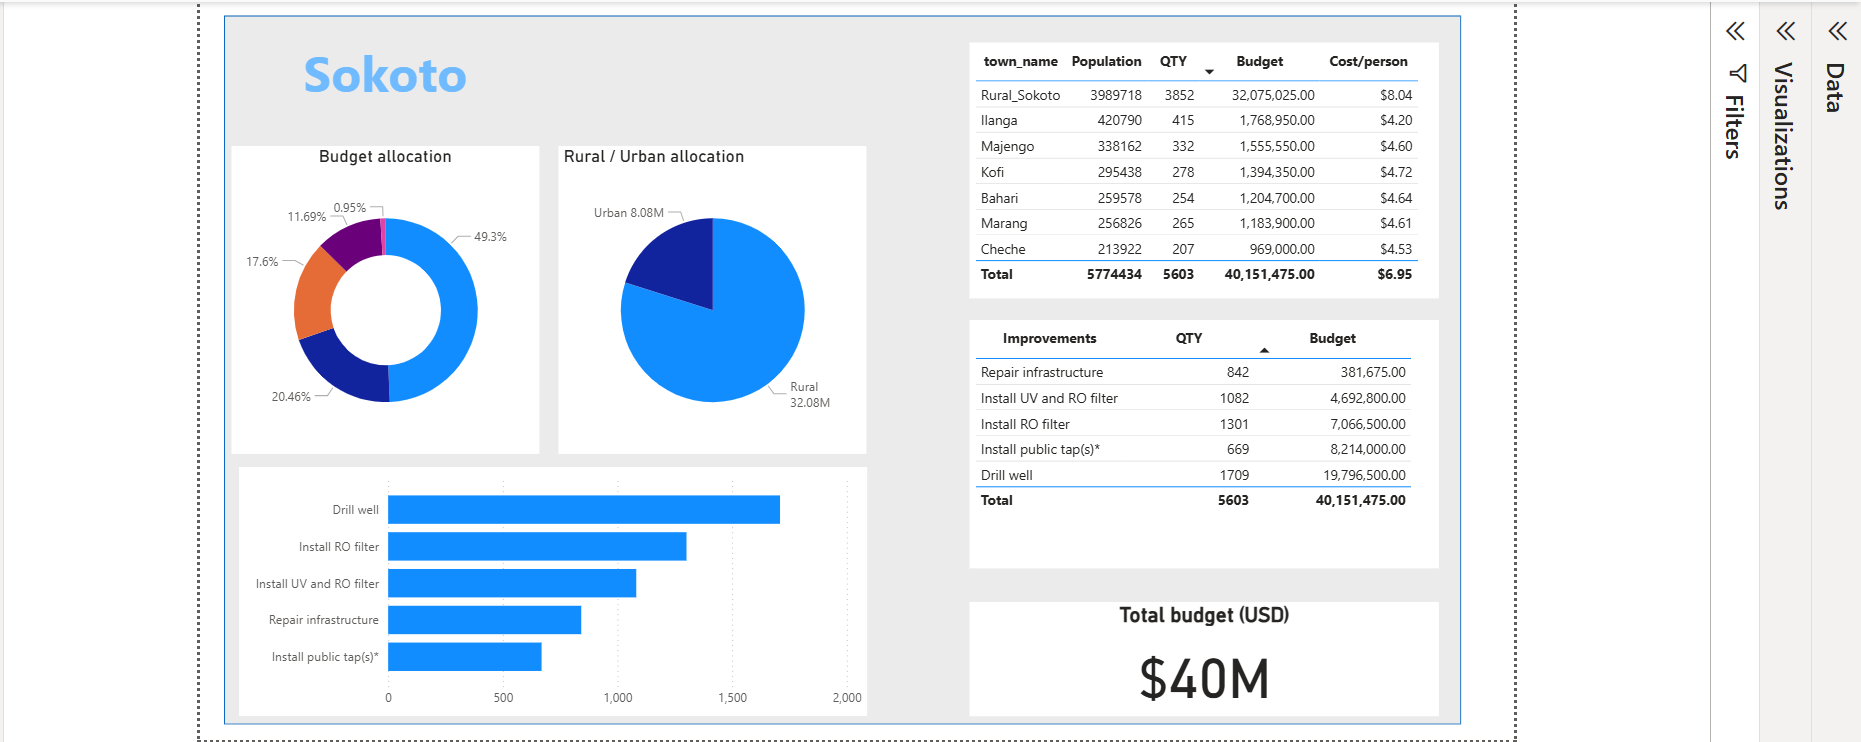

The dashboard page shown, as its layout file describes it:
{"tool":"powerbi","page":{"name":"Sokoto","canvas":[1280,720],"ordinal":0},"visuals":[{"type":"shape","box":[22.7,13.6,1205.5,690.9],"z":0},{"type":"barChart","fields":{"Category":["project_progress.Aggregated_improvements"],"Y":["CountNonNull(project_progress.Aggregated_improvements)"]},"box":[38.2,453.6,611.8,242.7],"z":1000},{"type":"card","title":"Total budget (USD)","fields":{"Values":["project_progress.Total_cost_of_improvements"]},"box":[750.2,583.9,457.3,111.5],"z":2000},{"type":"tableEx","fields":{"Values":["project_progress.Aggregated_improvements","CountNonNull(project_progress.Aggregated_improvements)","Sum(project_progress.Budgeted_improvement_cost)"]},"box":[750.2,309.9,457.3,241.9],"z":3000},{"type":"tableEx","fields":{"Values":["location.town_name","water_source.number_of_people_served","project_progress.Aggregated_improvements","Sum(project_progress.Budgeted_improvement_cost)","select"]},"box":[750.2,39.7,457.3,249.5],"z":4000},{"type":"pieChart","title":"Rural / Urban allocation","fields":{"Category":["location.location_type"],"Y":["Sum(project_progress.Budgeted_improvement_cost)"]},"box":[350,140,300,300],"z":5000},{"type":"donutChart","title":"Budget allocation","fields":{"Y":["Sum(project_progress.Budgeted_improvement_cost)"],"Category":["project_progress.Aggregated_improvements"]},"box":[30,140,300,300],"z":6000},{"type":"textbox","box":[30,30,300,79.1],"z":7000}]}

Visuals, with their boxes on the page's 1280x720 design canvas (x1, y1, x2, y2). These are canvas units, not pixel positions in the 1861x742 screenshot, which may show the page scaled, cropped or inside an application window:
shape: <box>23,14,1228,704</box>
barChart - project_progress.Aggregated_improvements x CountNonNull(project_progress.Aggregated_improvements): <box>38,454,650,696</box>
"Total budget (USD)" card: <box>750,584,1208,695</box>
tableEx - project_progress.Aggregated_improvements x CountNonNull(project_progress.Aggregated_improvements): <box>750,310,1208,552</box>
tableEx - location.town_name x water_source.number_of_people_served: <box>750,40,1208,289</box>
"Rural / Urban allocation" pieChart: <box>350,140,650,440</box>
"Budget allocation" donutChart: <box>30,140,330,440</box>
textbox: <box>30,30,330,109</box>
